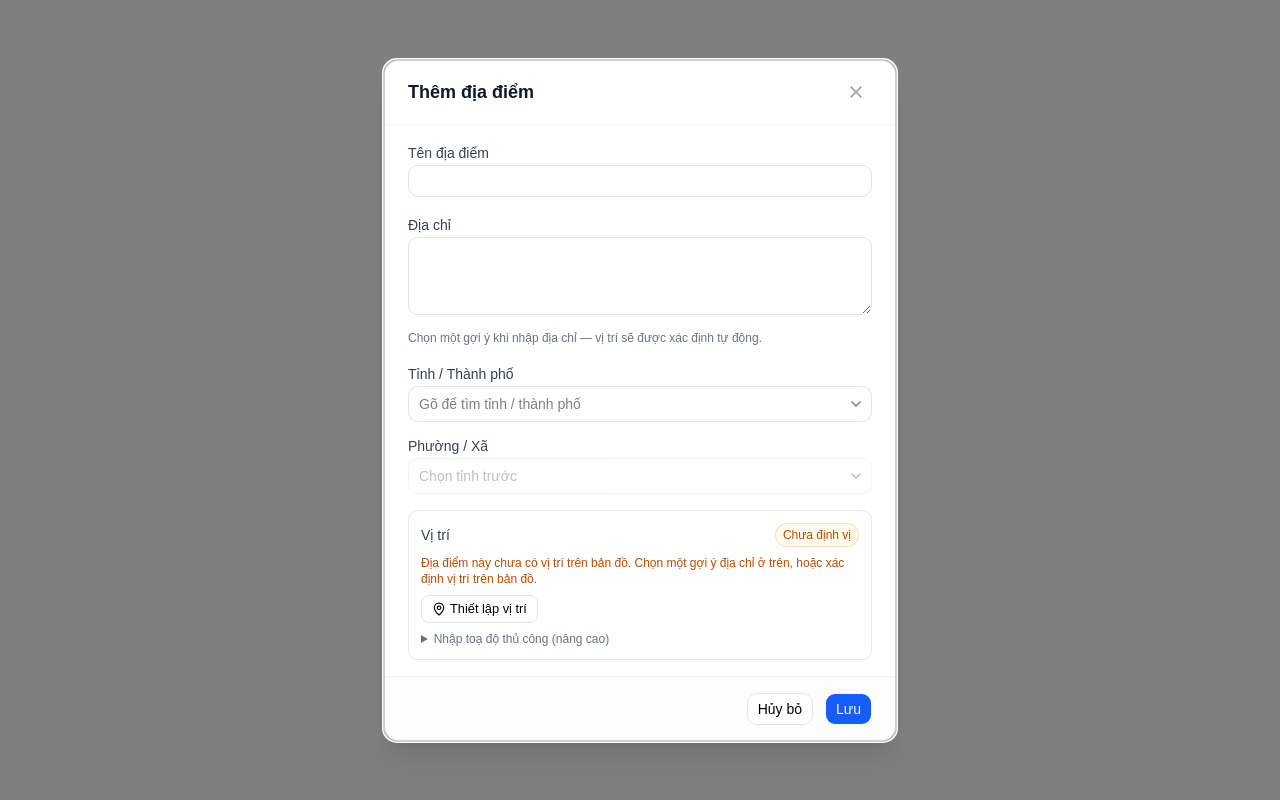
Test case: LocationFormModal › names a failed search and keeps the form usable
The image size is (1280, 800).
Type "Kho TCS" into the text box labelled "Địa chỉ" at (640, 276), box [408,236,872,314]
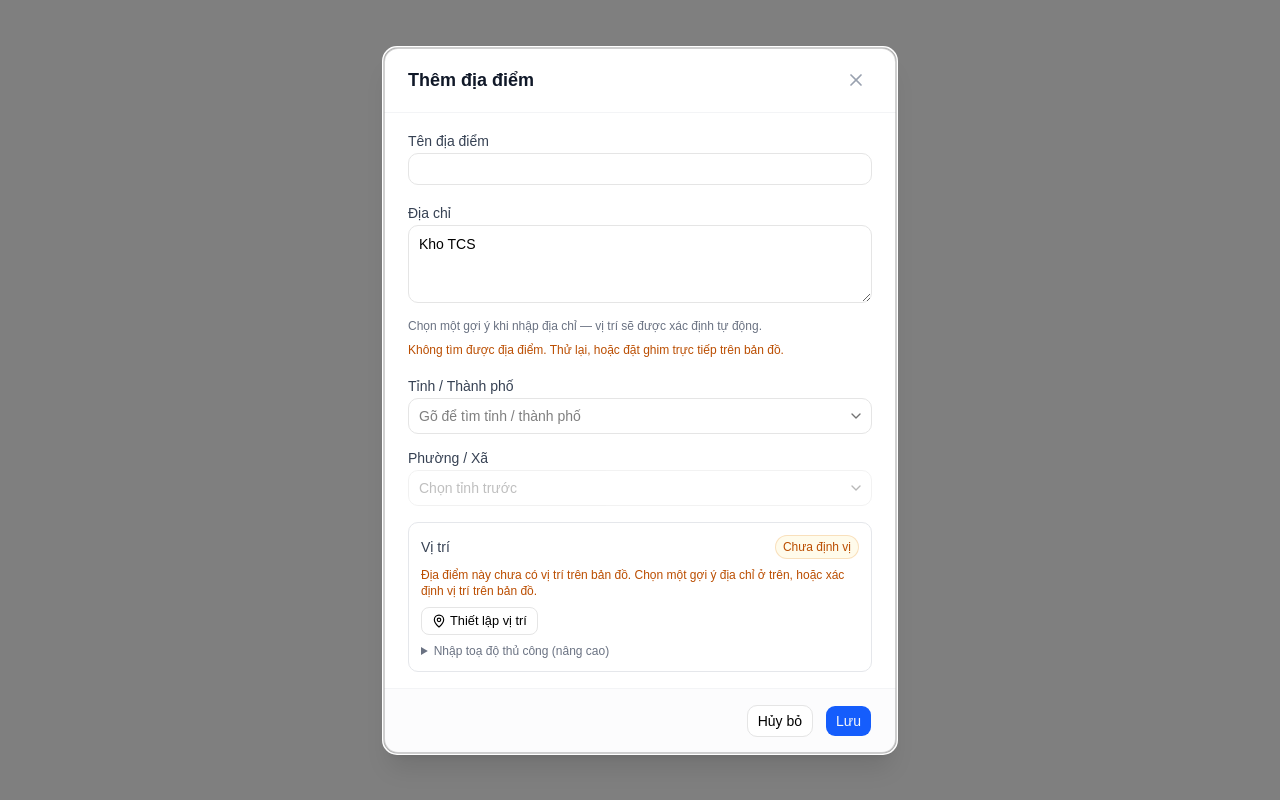
Expected: the button "Lưu" is enabled, [825,704,872,736]
Expected: the text "Không tìm được" is shown, [408,342,784,356]
